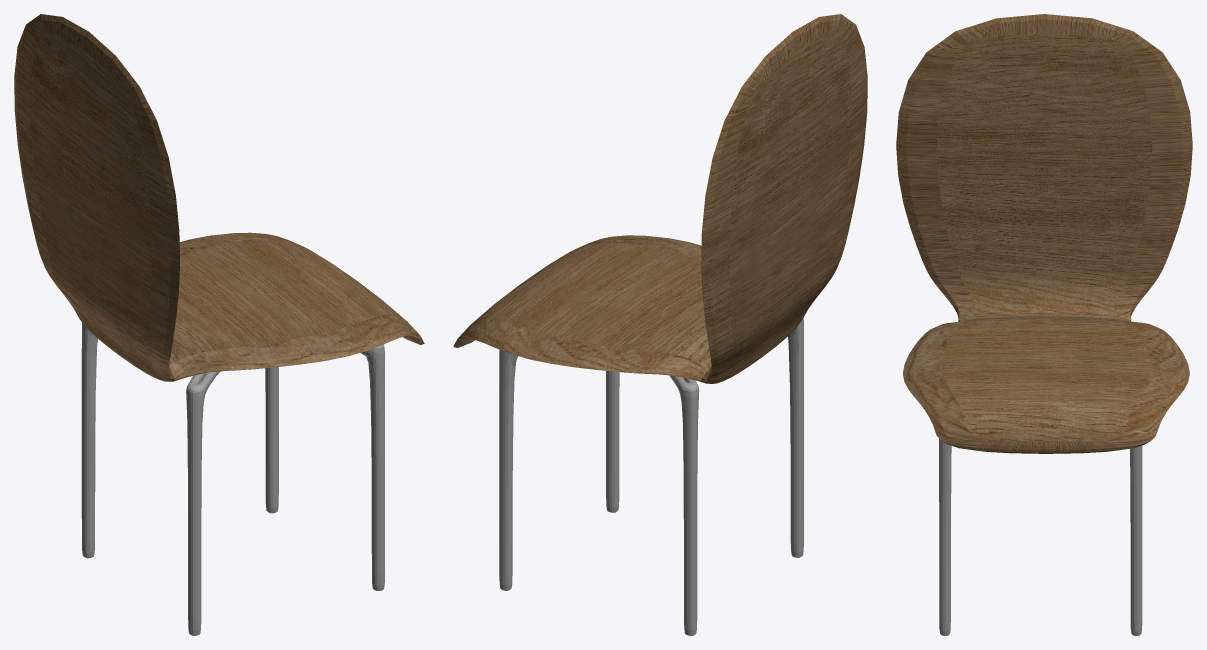
File: wooden_chair.fbx
3 views of the same model, side by side, from view 1: azimuth 30°, elevation 25°; view 2: azimuth 150°, elevation 25°; view 3: azimuth 270°, elevation 25° (orthographic). The views are drawn at different scales.
Parts seen in each view (by area): view 1: Cube, Cube.001; view 2: Cube, Cube.001; view 3: Cube, Cube.001.
Boxes of the visible parts, bbox=[...] form: Cube: bbox=[14, 14, 424, 381]; Cube.001: bbox=[81, 322, 384, 635]; Cube: bbox=[453, 14, 867, 383]; Cube.001: bbox=[499, 318, 803, 635]; Cube: bbox=[896, 14, 1192, 453]; Cube.001: bbox=[939, 438, 1142, 635].
Bounding box in the file's own units: 244 × 463 × 241.
